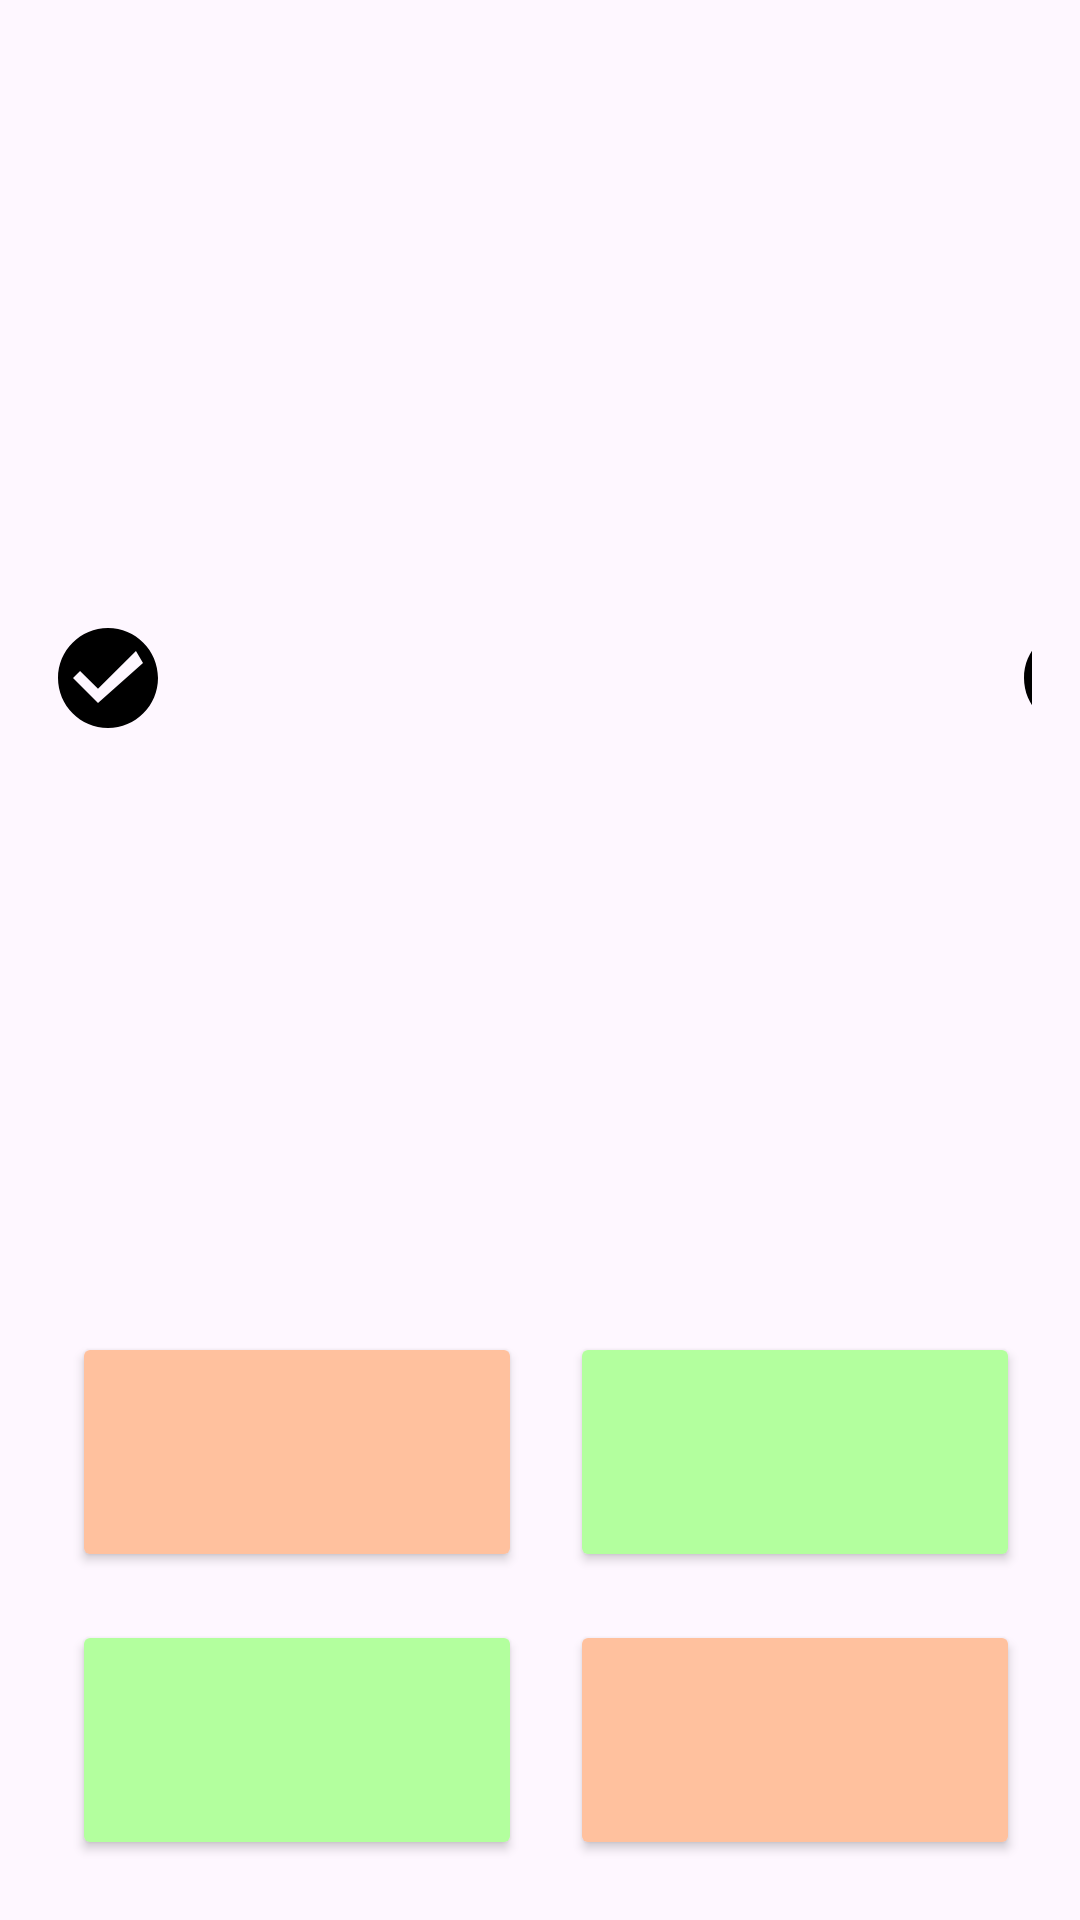

Icons on this 1080 × 1920 Android screen, each with its box as (x1, y1, x2, y2):
check circle: (58, 628, 158, 728)
